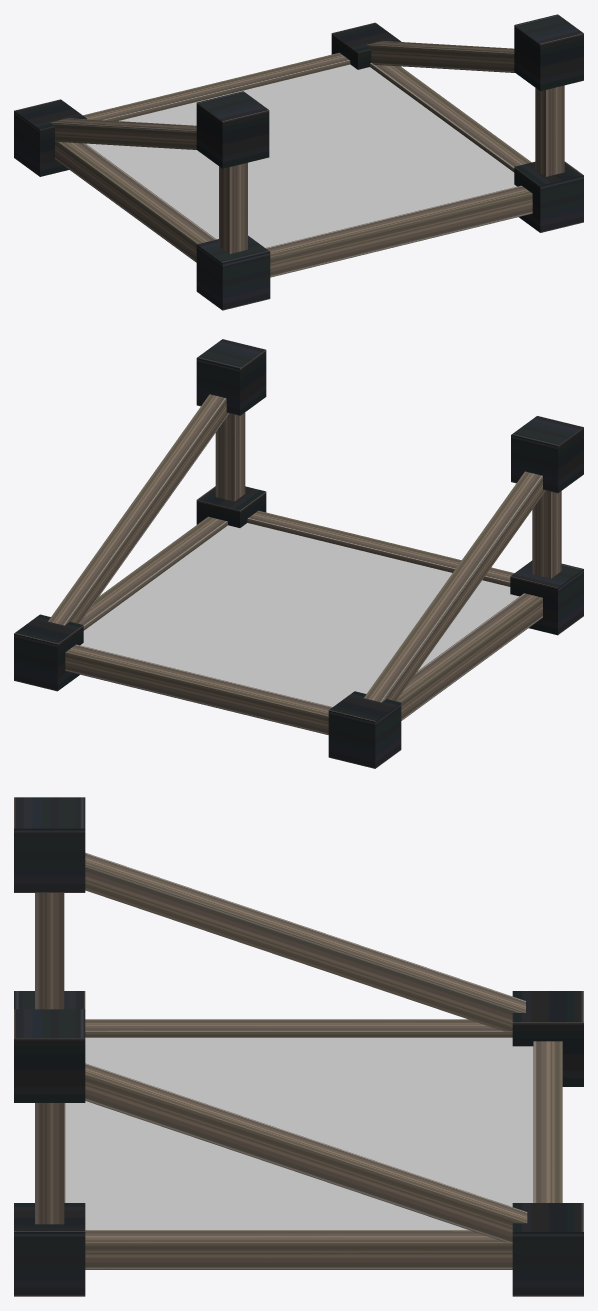
File: platform.fbx
3 renders of one model, top to bottom at view 1: azimuth 30°, elevation 25°; view 2: azimuth 150°, elevation 25°; view 3: azimuth 270°, elevation 25°, orthographic. The views are drawn at different scales.
Parts seen in each view (by area): view 1: _1, Plane; view 2: _1, Plane; view 3: _1, Plane.
Boxes of the visible parts, box(x1,y1,x2,y2) form: _1: box(14, 14, 583, 310); Plane: box(86, 64, 516, 247); _1: box(14, 339, 583, 768); Plane: box(80, 523, 519, 706); _1: box(14, 797, 583, 1296); Plane: box(65, 1037, 533, 1229).
Bounding box in the file's own units: 401 × 201 × 401.
